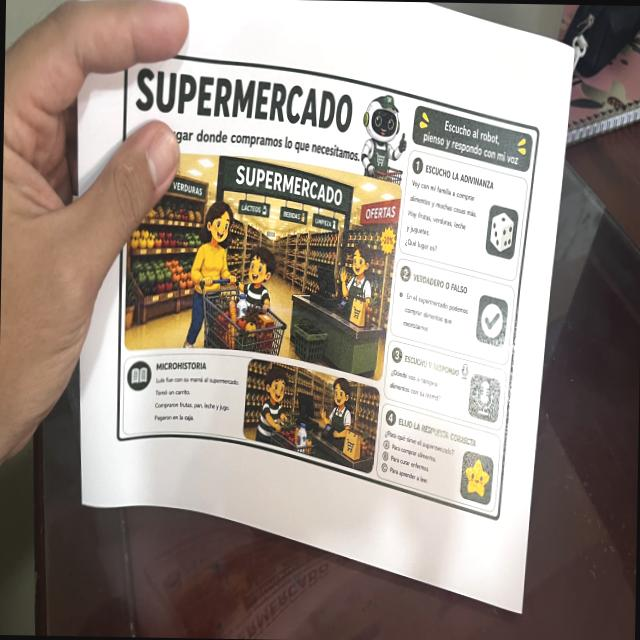supermercado: (111, 53, 544, 530)
